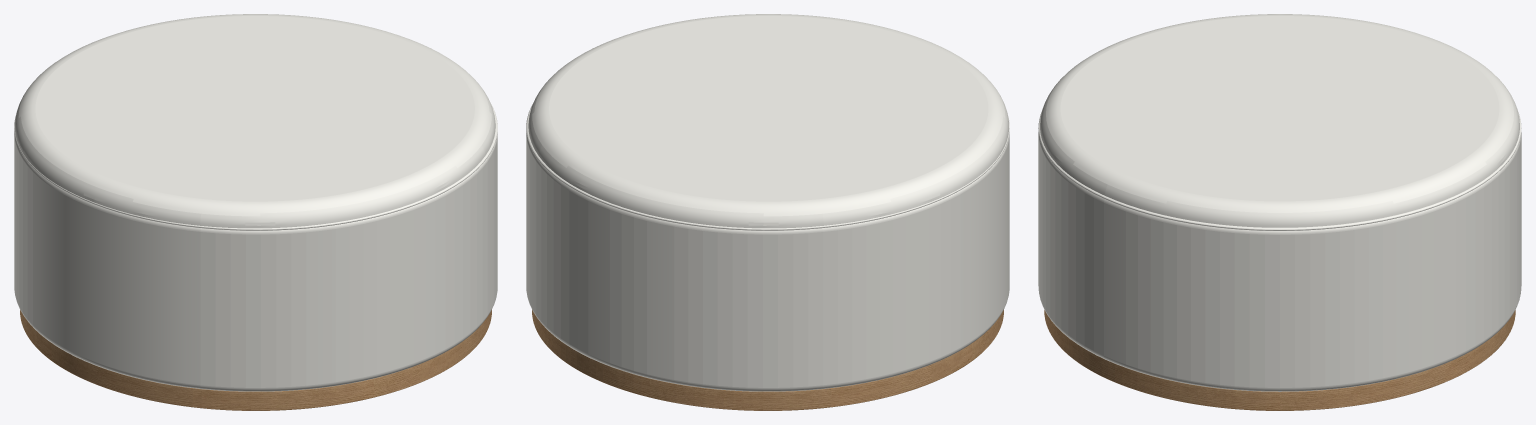
File: puff.fbx
3 views of the same model, side by side, from view 1: azimuth 30°, elevation 25°; view 2: azimuth 150°, elevation 25°; view 3: azimuth 270°, elevation 25° (orthographic).
Visible parts, largest first — view 1: Mesh02, Mesh01, ESTRUTURA, Mesh03; view 2: Mesh02, Mesh01, ESTRUTURA, Mesh03; view 3: Mesh02, Mesh01, ESTRUTURA, Mesh03.
Boxes of the visible parts, x1,y1,x2,y2 form: Mesh02: [14, 14, 495, 228]; Mesh01: [14, 133, 497, 391]; ESTRUTURA: [20, 310, 491, 410]; Mesh03: [14, 104, 497, 230]; Mesh02: [528, 14, 1009, 228]; Mesh01: [526, 133, 1009, 391]; ESTRUTURA: [532, 310, 1003, 410]; Mesh03: [526, 104, 1009, 230]; Mesh02: [1040, 14, 1519, 227]; Mesh01: [1038, 132, 1521, 391]; ESTRUTURA: [1044, 310, 1515, 410]; Mesh03: [1038, 110, 1521, 230].
Size of the model in its own units: 303 by 140 by 303.
